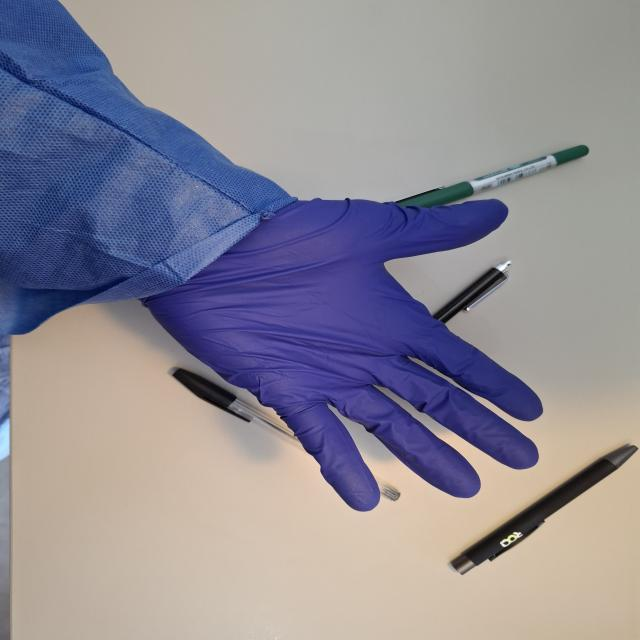glove_on: (137, 193, 550, 515)
